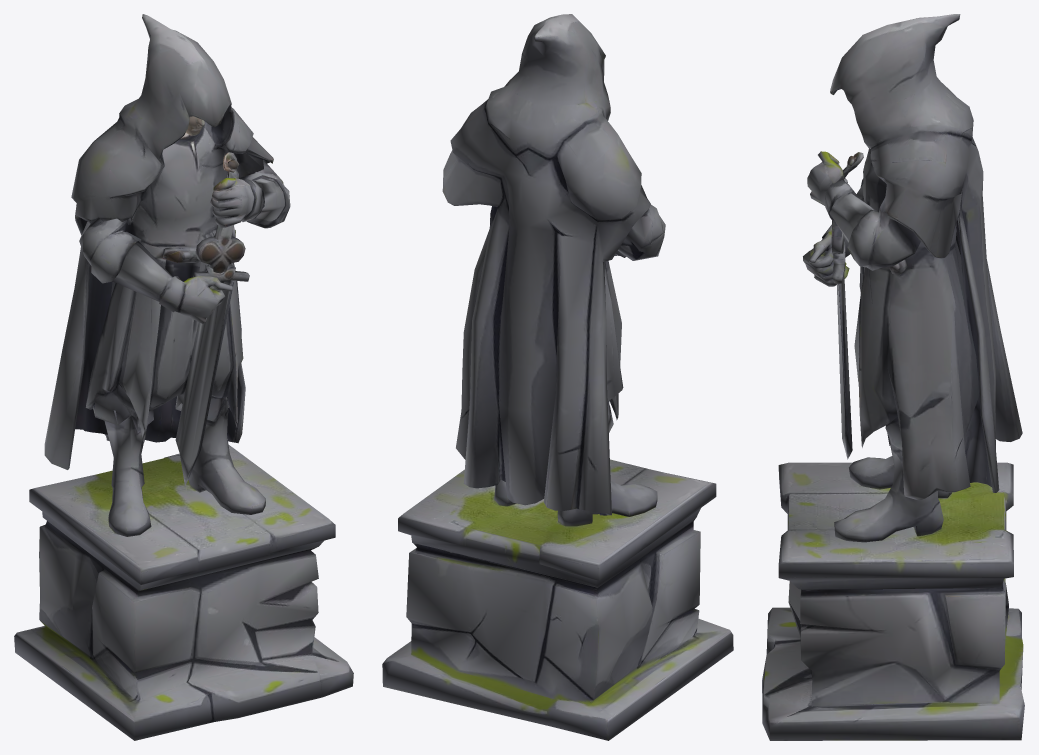
The model's file is statue.glb.
The picture shows the model from 3 angles, left to right: view 1: azimuth 30°, elevation 25°; view 2: azimuth 150°, elevation 25°; view 3: azimuth 270°, elevation 25°; orthographic projection. The views are drawn at different scales.
Bounding box in the file's own units: 0.3452 × 0.9526 × 0.3403.
Materials: 1 (1 with a texture image).
